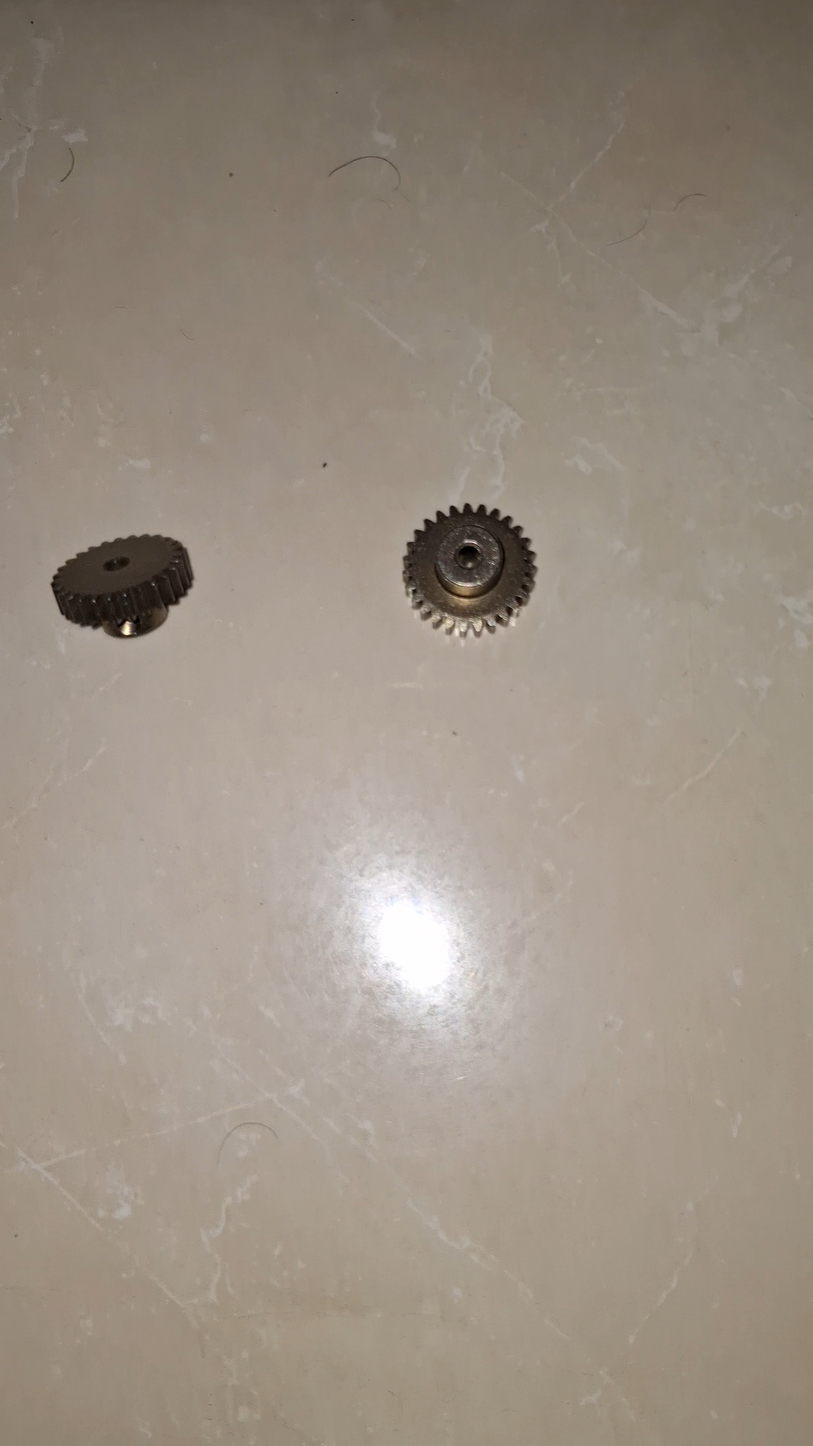spur gear: (404, 504, 536, 636), (52, 535, 192, 637)
